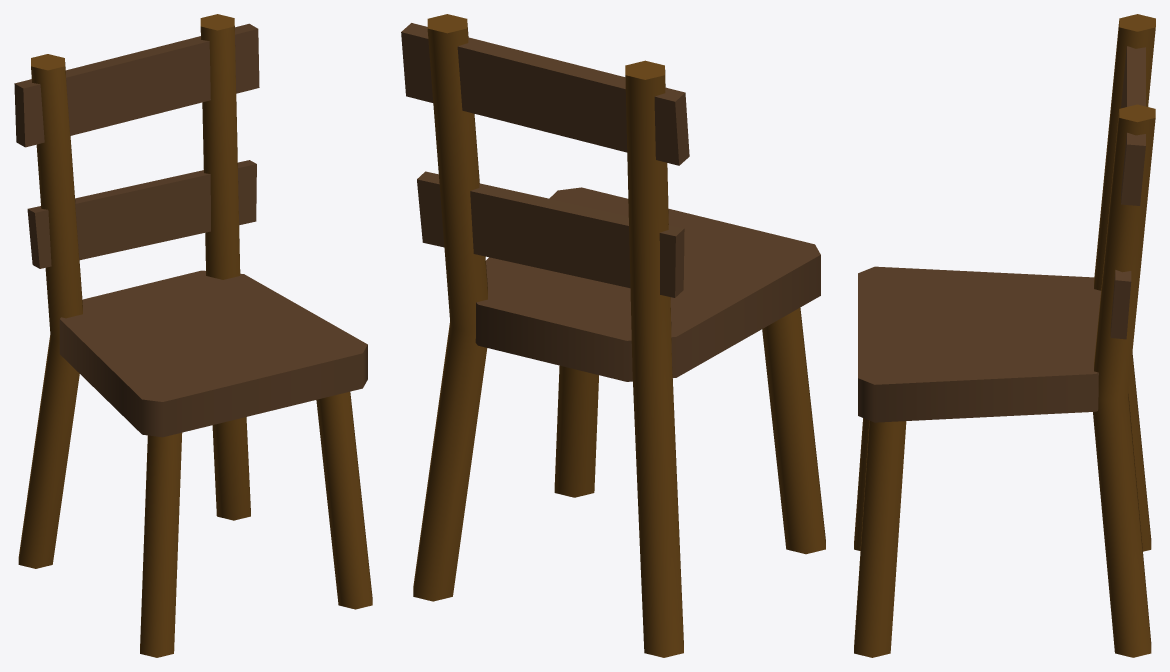
Rendered from ChairNormals.fbx.
The picture shows the model from 3 angles, left to right: view 1: azimuth 30°, elevation 25°; view 2: azimuth 150°, elevation 25°; view 3: azimuth 270°, elevation 25°; orthographic projection. The views are drawn at different scales.
Parts seen in each view (by area): view 1: SimpleChair; view 2: SimpleChair; view 3: SimpleChair.
Boxes of the visible parts, left/top/right/bottom form: SimpleChair: left=14, top=14, right=372, bottom=657; SimpleChair: left=401, top=14, right=825, bottom=657; SimpleChair: left=854, top=14, right=1155, bottom=657.
Size of the model in its own units: 124 by 247 by 128.
